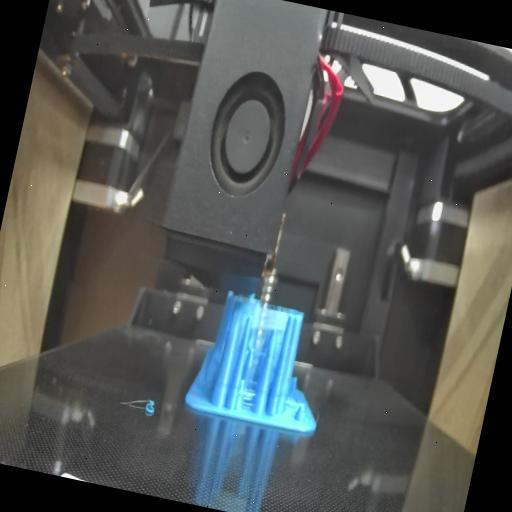stringing: (234, 297, 290, 340), (237, 382, 259, 410)
